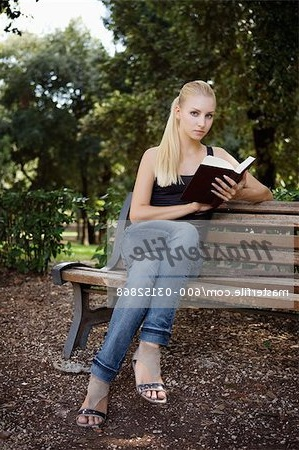not_fallen: (73, 72, 281, 434)
